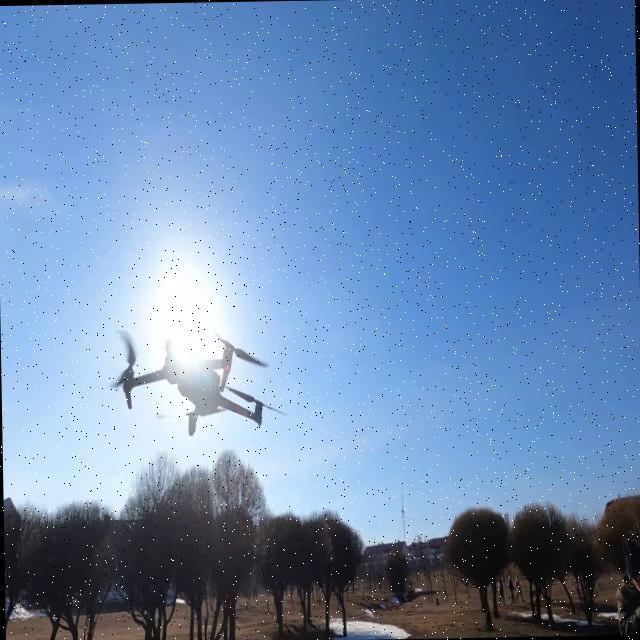Drons: (98, 321, 284, 436)
